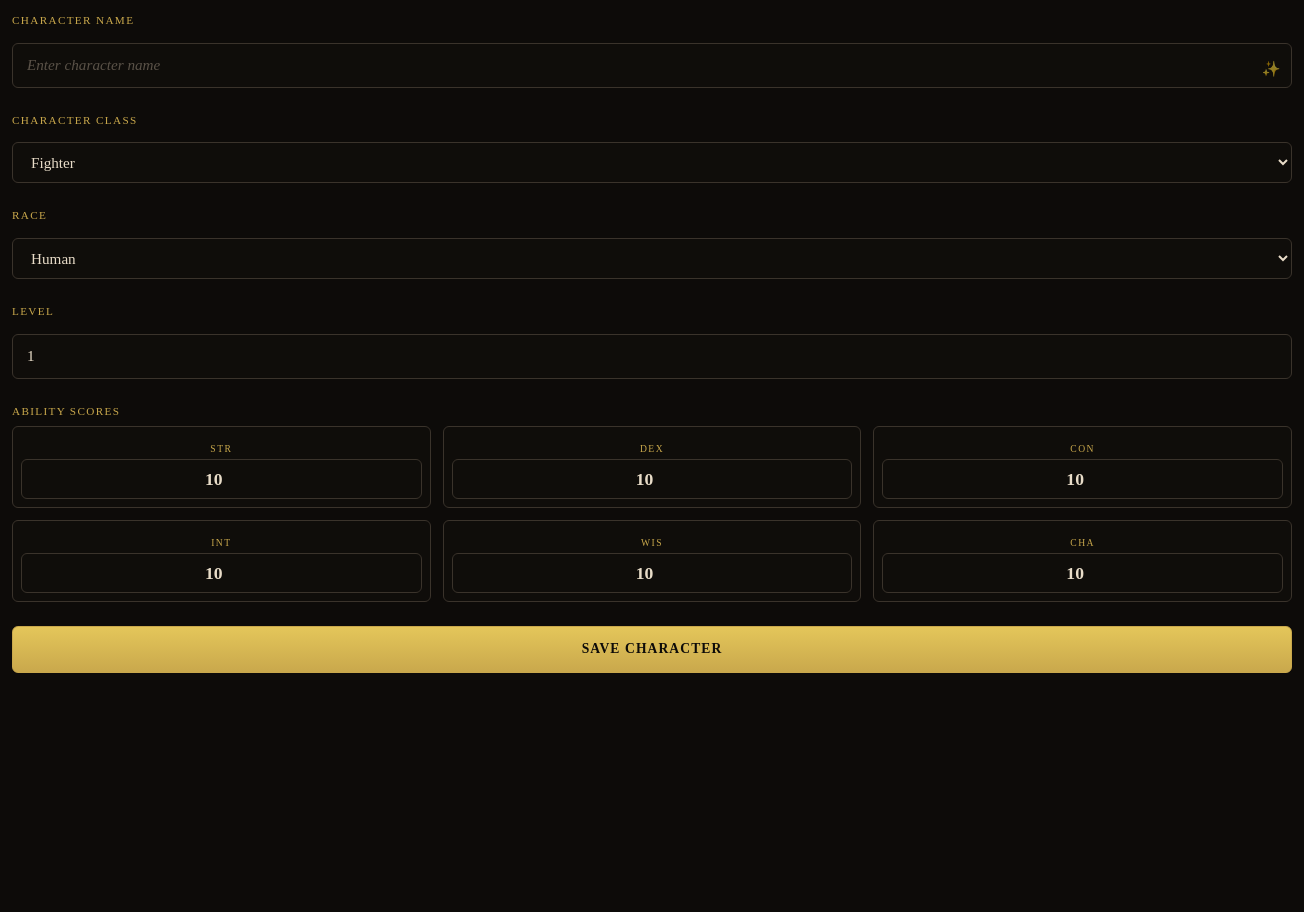
CharacterCreationForm › submission › falls back to a generic error message when response lacks error field
Step 1. Type "Aragorn" into the field with placeholder "Enter character name" → (652, 65), box left=12, top=43, right=1292, bottom=88
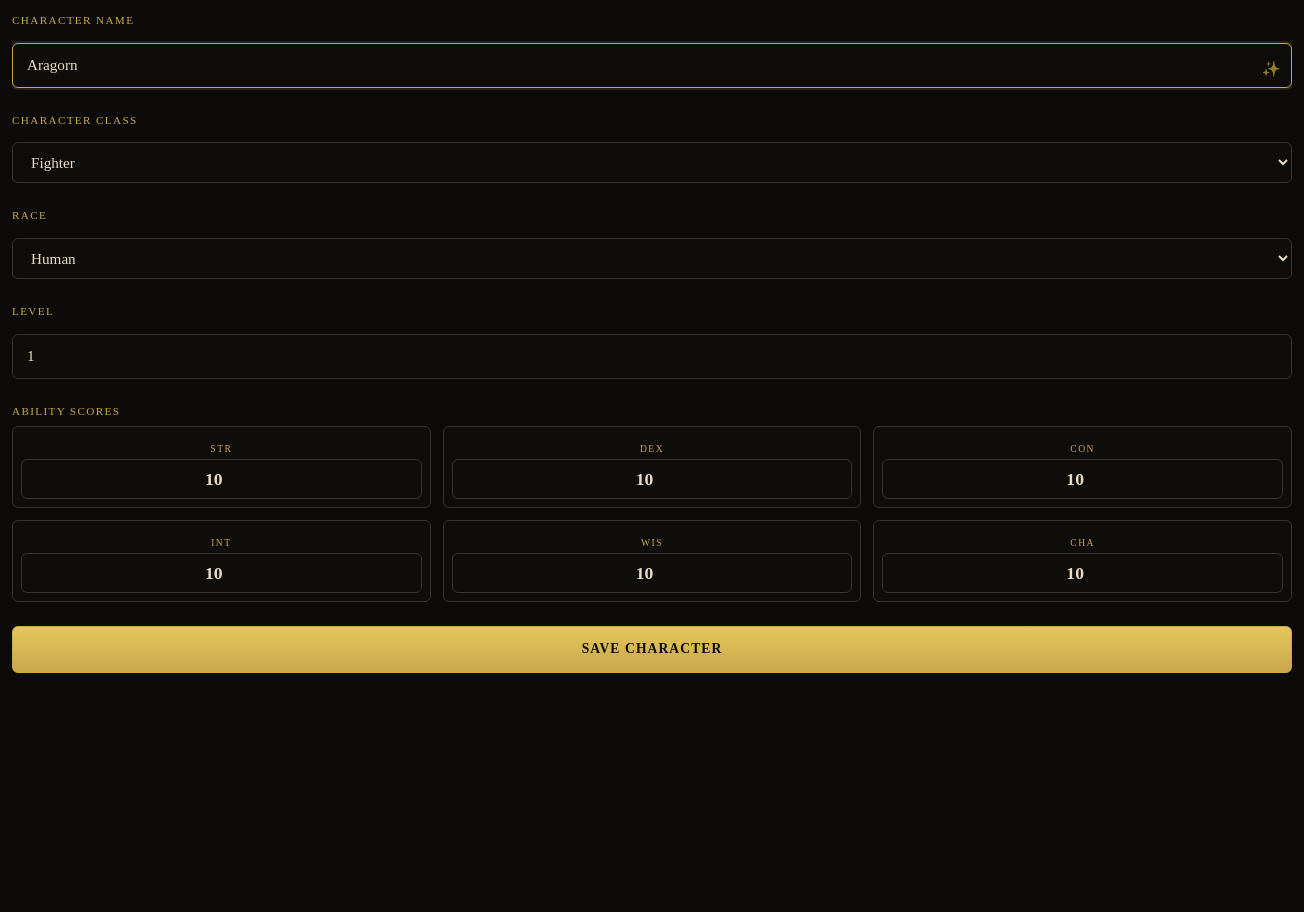
Step 2. Click the button "Save Character" → (652, 650), box left=12, top=626, right=1292, bottom=673
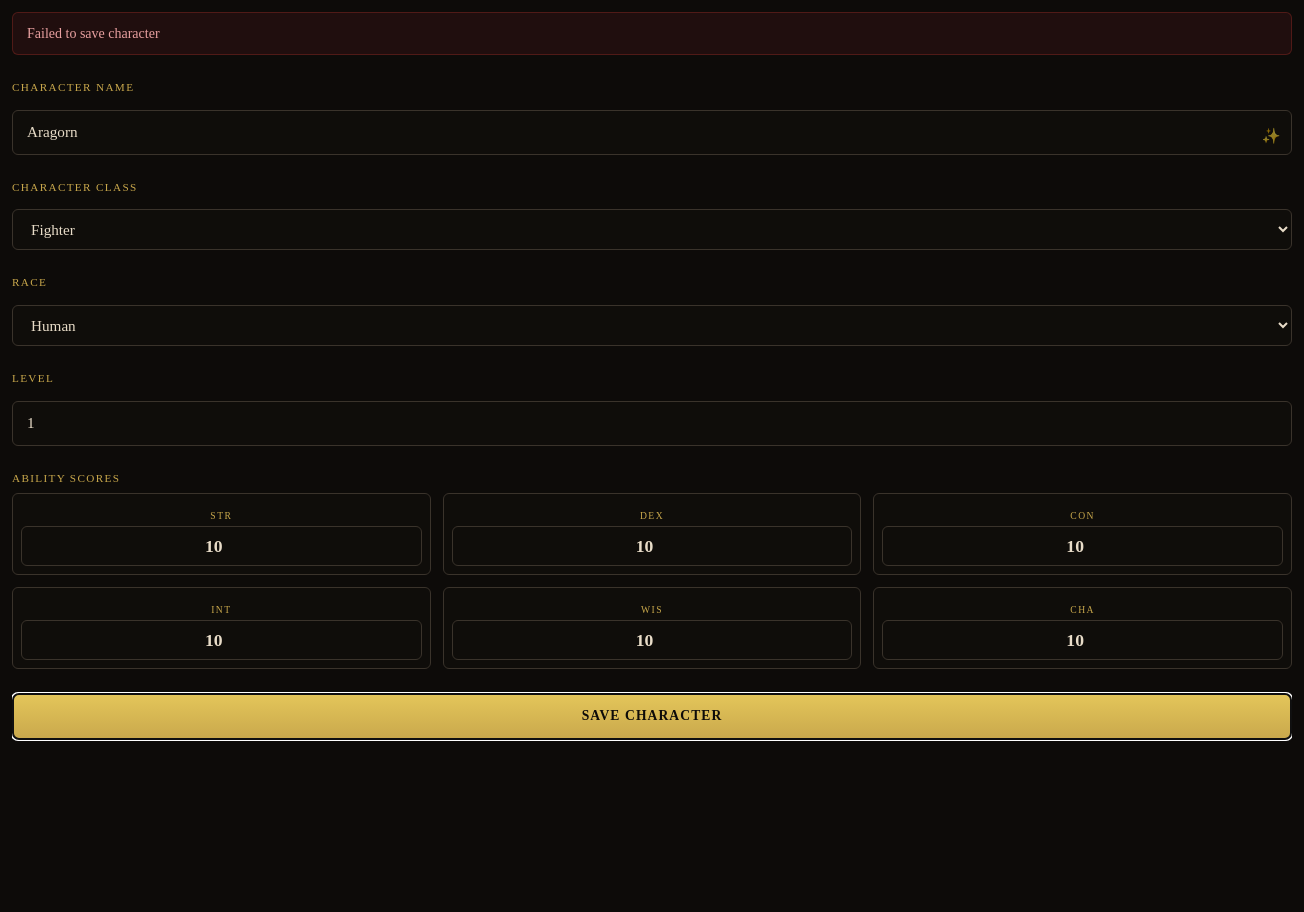
Now the text "Failed to save character" is shown, box left=12, top=12, right=1292, bottom=55
